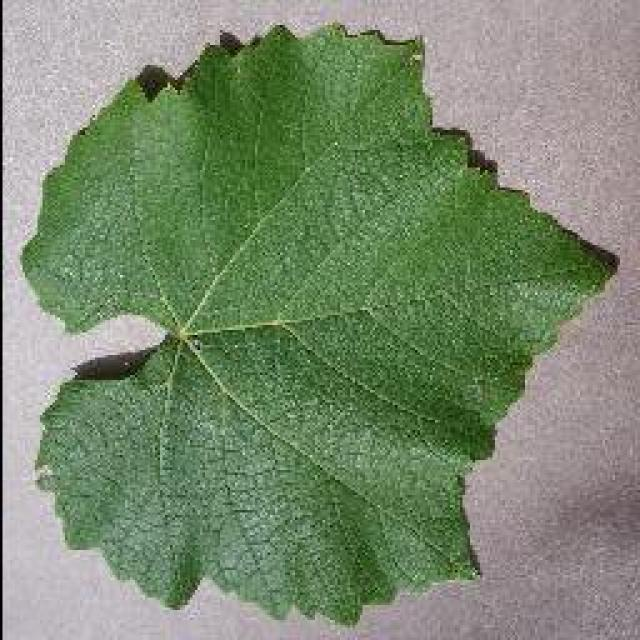Grape___healthy: (20, 17, 613, 632)
